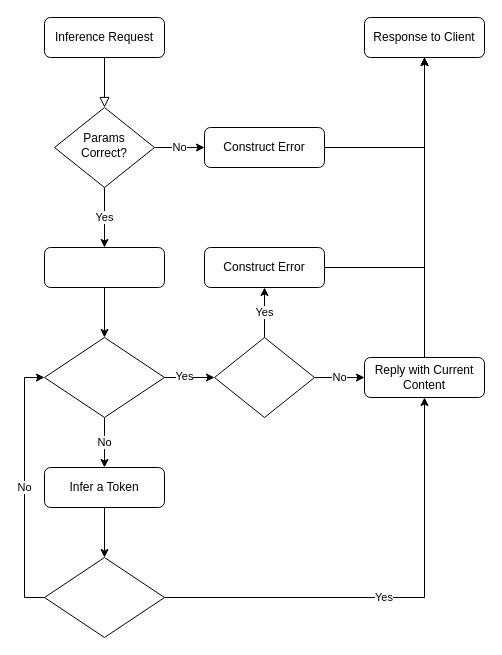
Some shapes in this 502 by 655 pixel diagram are drawn without their labels. Here are the shapes that lost their labels. From the top down, the box of each, then its label:
(44, 246, 164, 288): Start Infer Loop
(44, 336, 164, 418): Update Prompt Is exhausted?
(214, 336, 314, 418): Is First Token?
(44, 556, 164, 638): Terminal Reached?
